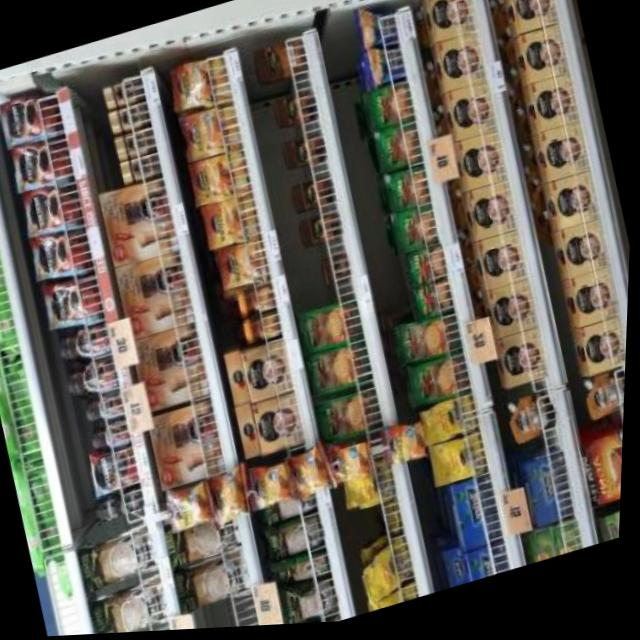Coffee: (0, 88, 66, 150), (187, 151, 254, 212), (43, 272, 106, 334), (168, 56, 233, 116), (179, 106, 243, 166), (10, 136, 75, 195), (31, 227, 95, 286), (21, 181, 85, 240), (202, 198, 261, 254), (91, 447, 145, 496), (59, 322, 115, 369), (218, 242, 269, 293), (67, 357, 122, 402), (170, 486, 217, 533), (386, 425, 432, 471), (328, 445, 374, 489), (251, 465, 294, 512), (289, 455, 332, 501), (212, 478, 250, 525), (107, 102, 150, 136), (113, 130, 156, 164), (102, 78, 145, 111), (92, 421, 134, 454), (238, 285, 278, 319), (86, 393, 127, 426), (244, 313, 284, 346), (118, 154, 161, 184), (97, 496, 127, 526), (122, 489, 148, 518)
